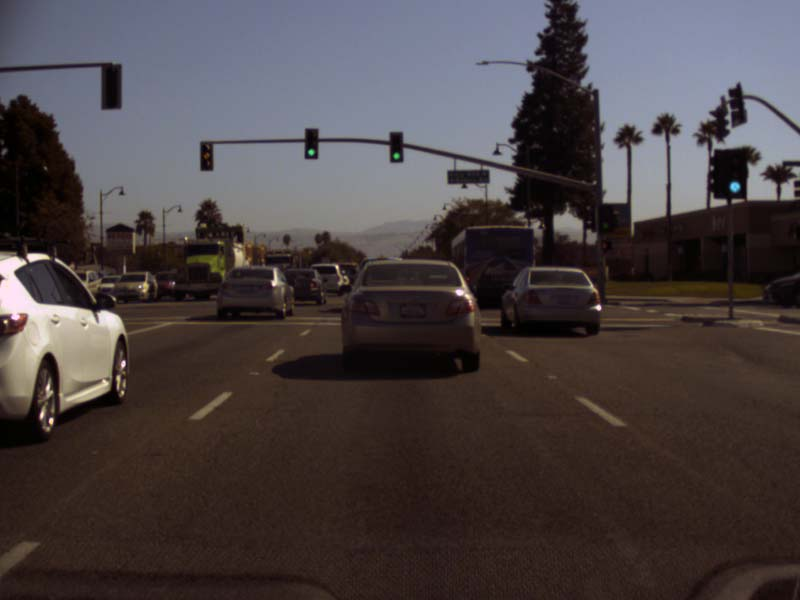Green: (725, 151, 743, 195), (390, 133, 402, 161), (306, 129, 317, 158), (600, 207, 611, 232)
Yellow: (200, 142, 212, 169), (602, 241, 610, 249)
